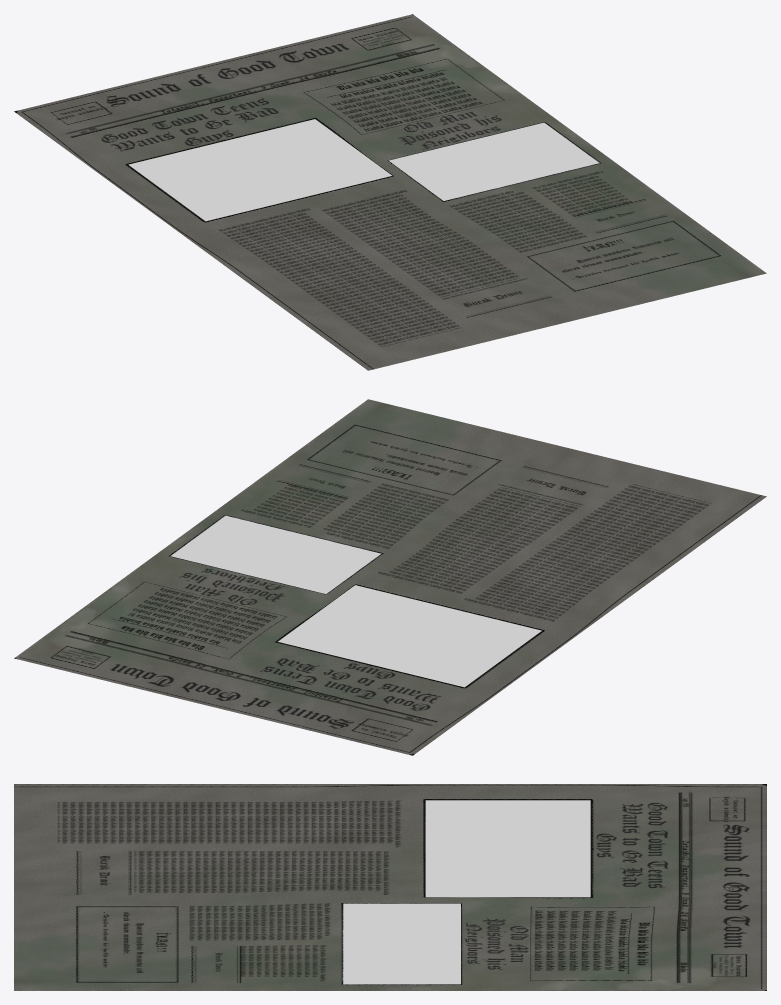
File: Paper.fbx
3 views of the same model, one above another, from view 1: azimuth 30°, elevation 25°; view 2: azimuth 150°, elevation 25°; view 3: azimuth 270°, elevation 25° (orthographic). The views are drawn at different scales.
Parts seen in each view (by area): view 1: Paper, GoodTown, Old Man; view 2: Paper, GoodTown, Old Man; view 3: Paper, GoodTown, Old Man.
Part boxes in pixels (bbox=[...]): Paper: bbox=[14, 14, 766, 370]; GoodTown: bbox=[128, 119, 392, 221]; Old Man: bbox=[388, 122, 598, 200]; Paper: bbox=[14, 399, 766, 755]; GoodTown: bbox=[278, 585, 541, 687]; Old Man: bbox=[170, 516, 380, 593]; Paper: bbox=[14, 784, 766, 990]; GoodTown: bbox=[425, 800, 590, 897]; Old Man: bbox=[343, 903, 460, 984].
Size of the model in its own units: 65 by 1.63e-05 by 100.
3 materials, 1 textured.
